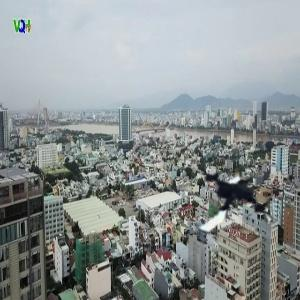drone: (174, 152, 275, 253)
